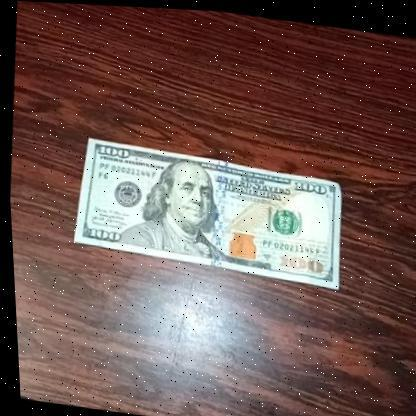one_hundred-front: (69, 132, 348, 288)
